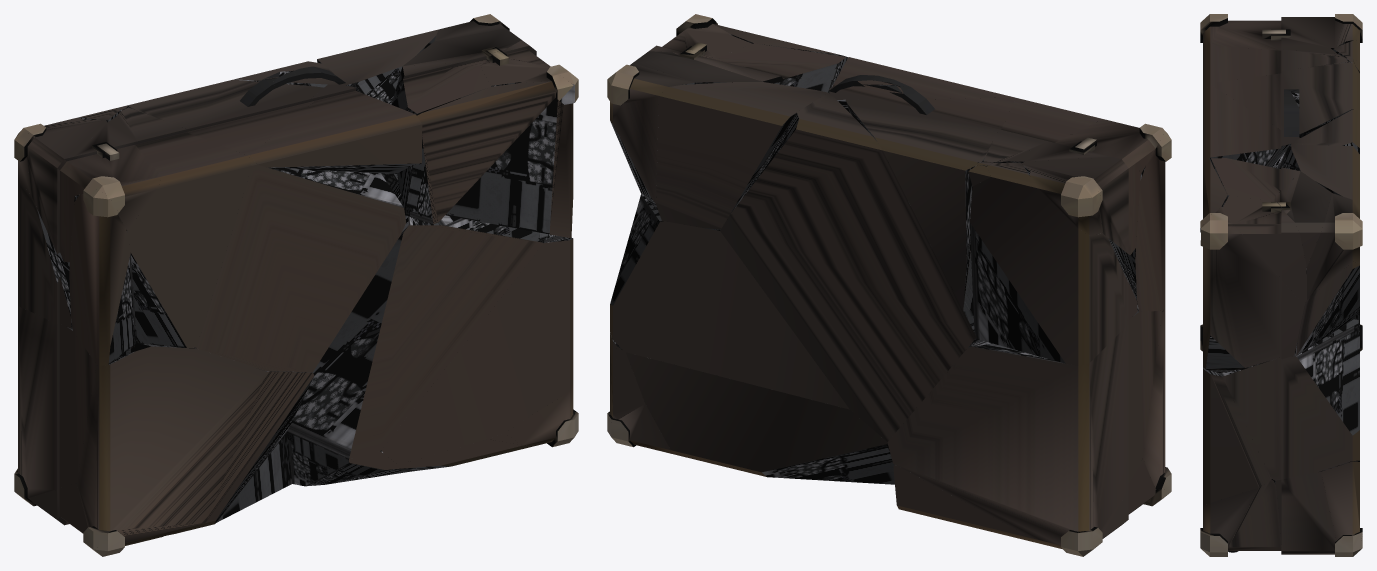
Rendered from bag1.fbx.
The picture shows the model from 3 angles, left to right: view 1: azimuth 30°, elevation 25°; view 2: azimuth 150°, elevation 25°; view 3: azimuth 270°, elevation 25°; orthographic projection. The views are drawn at different scales.
Visible parts, largest first — view 1: suitcase1_cell.041, suitcase1_cell.011, suitcase1_cell.003, suitcase1_cell.009, suitcase1_cell.008, suitcase1_cell.013, suitcase1_cell.014, suitcase1_cell.032, suitcase1_cell.040, suitcase1_cell.026, suitcase1_cell.019, suitcase1_cell.016 (+14 smaller); view 2: suitcase1_cell.042, suitcase1_cell.013, suitcase1_cell.011, suitcase1_cell.017, suitcase1_cell.002, suitcase1_cell.036, suitcase1_cell.041, suitcase1_cell.029, suitcase1_cell.026, suitcase1_cell.022, suitcase1_cell.019, suitcase1_cell.016 (+10 smaller); view 3: suitcase1_cell.011, suitcase1_cell.032, suitcase1_cell.041, suitcase1_cell.009, suitcase1_cell.040, suitcase1_cell.007, suitcase1_cell.006, suitcase1_cell.008, suitcase1_cell.029, suitcase1_cell.016, suitcase1_cell.023, suitcase1_cell.036 (+11 smaller).
Boxes of the visible parts, bbox=[...] form: suitcase1_cell.041: bbox=[126, 79, 406, 372]; suitcase1_cell.011: bbox=[287, 195, 563, 459]; suitcase1_cell.003: bbox=[76, 345, 266, 551]; suitcase1_cell.009: bbox=[381, 237, 573, 464]; suitcase1_cell.008: bbox=[117, 107, 251, 347]; suitcase1_cell.013: bbox=[14, 306, 159, 499]; suitcase1_cell.014: bbox=[397, 74, 573, 224]; suitcase1_cell.032: bbox=[445, 64, 578, 237]; suitcase1_cell.040: bbox=[250, 84, 422, 173]; suitcase1_cell.026: bbox=[69, 186, 136, 365]; suitcase1_cell.019: bbox=[21, 119, 106, 262]; suitcase1_cell.016: bbox=[69, 116, 161, 230]; suitcase1_cell.042: bbox=[720, 93, 976, 441]; suitcase1_cell.013: bbox=[887, 310, 1162, 551]; suitcase1_cell.011: bbox=[610, 194, 849, 409]; suitcase1_cell.017: bbox=[970, 162, 1137, 365]; suitcase1_cell.002: bbox=[625, 352, 894, 484]; suitcase1_cell.036: bbox=[656, 82, 827, 229]; suitcase1_cell.041: bbox=[845, 97, 1015, 339]; suitcase1_cell.029: bbox=[607, 63, 695, 203]; suitcase1_cell.026: bbox=[1119, 132, 1171, 311]; suitcase1_cell.022: bbox=[893, 459, 1155, 552]; suitcase1_cell.019: bbox=[1021, 157, 1140, 255]; suitcase1_cell.016: bbox=[1008, 119, 1165, 174]; suitcase1_cell.011: bbox=[1219, 319, 1359, 480]; suitcase1_cell.032: bbox=[1200, 206, 1304, 372]; suitcase1_cell.041: bbox=[1203, 62, 1359, 137]; suitcase1_cell.009: bbox=[1203, 367, 1271, 504]; suitcase1_cell.040: bbox=[1203, 84, 1300, 182]; suitcase1_cell.007: bbox=[1223, 195, 1306, 305]; suitcase1_cell.006: bbox=[1275, 472, 1360, 556]; suitcase1_cell.008: bbox=[1203, 45, 1348, 89]; suitcase1_cell.029: bbox=[1306, 193, 1362, 299]; suitcase1_cell.016: bbox=[1200, 14, 1336, 53]; suitcase1_cell.023: bbox=[1296, 262, 1359, 355]; suitcase1_cell.036: bbox=[1279, 144, 1359, 320].
Size of the model in its own units: 7407 by 5793 by 2372.
